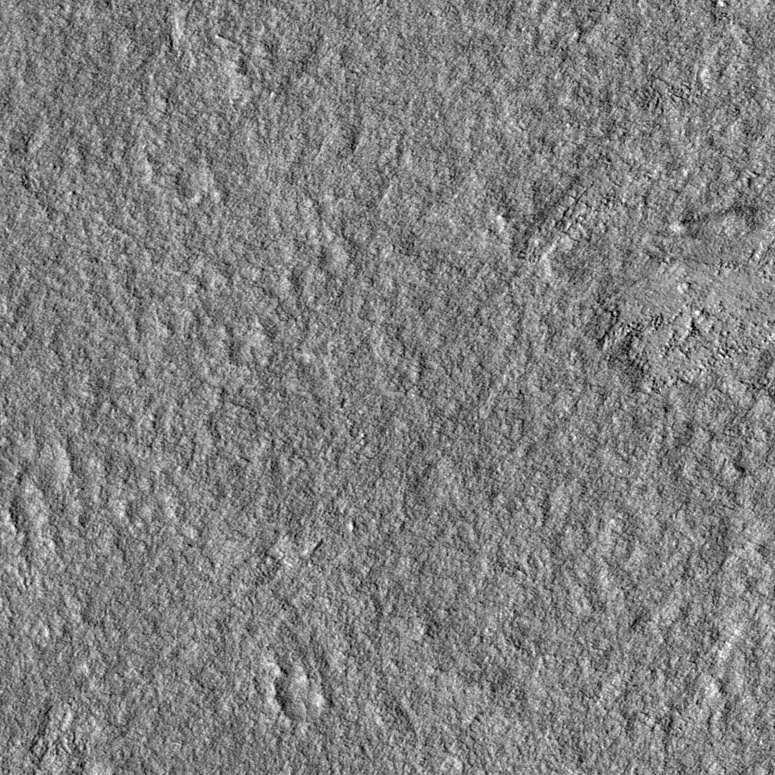dust_devil: (668, 203, 760, 235)
